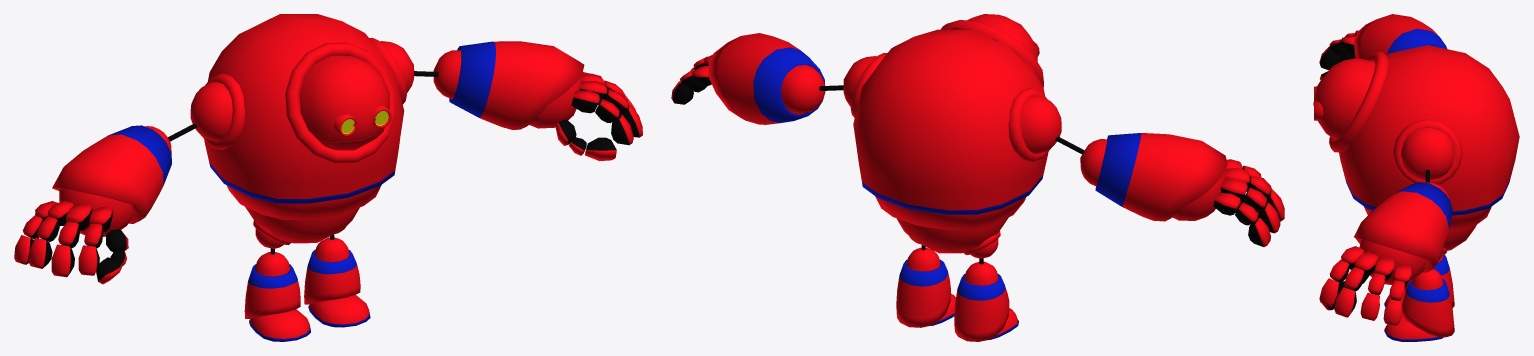
File: robot-v2.fbx
3 views of the same model, side by side, from view 1: azimuth 30°, elevation 25°; view 2: azimuth 150°, elevation 25°; view 3: azimuth 270°, elevation 25° (orthographic). The views are drawn at different scales.
Visible parts, largest first — view 1: roboto; view 2: roboto; view 3: roboto.
Part boxes in pixels (<box>): roboto: <box>14,14,642,341</box>; roboto: <box>671,14,1284,341</box>; roboto: <box>1313,14,1519,341</box>.
Size of the model in its own units: 13.52 by 6.23 by 4.4.
